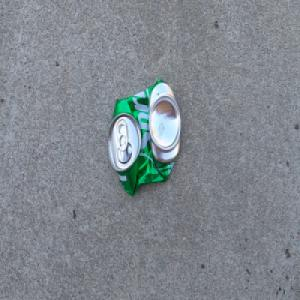SodaCan: (106, 76, 182, 198)
